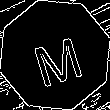M_N: (25, 24, 85, 86)
